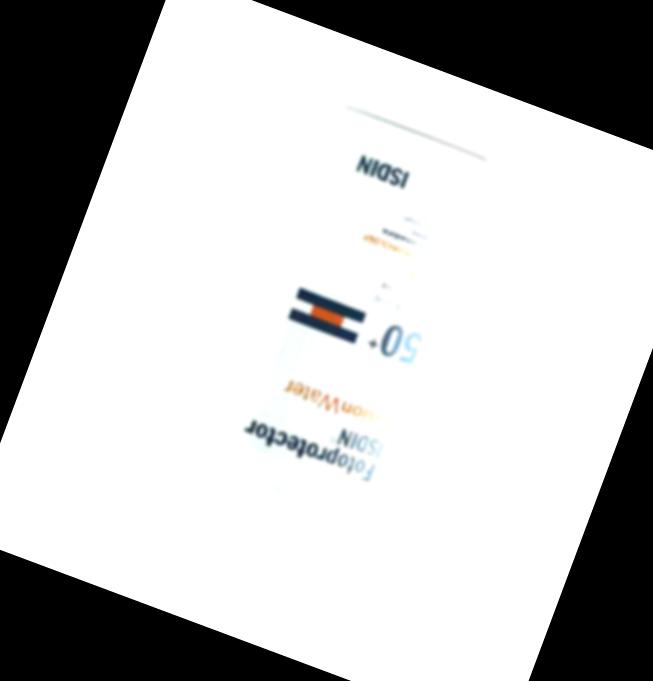cosmetic: (156, 95, 508, 615)
